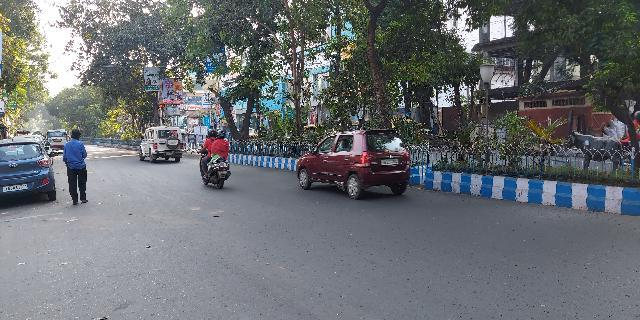Car: (292, 127, 413, 203), (1, 138, 57, 203), (135, 125, 184, 163)
Motorbike: (195, 127, 232, 191)
